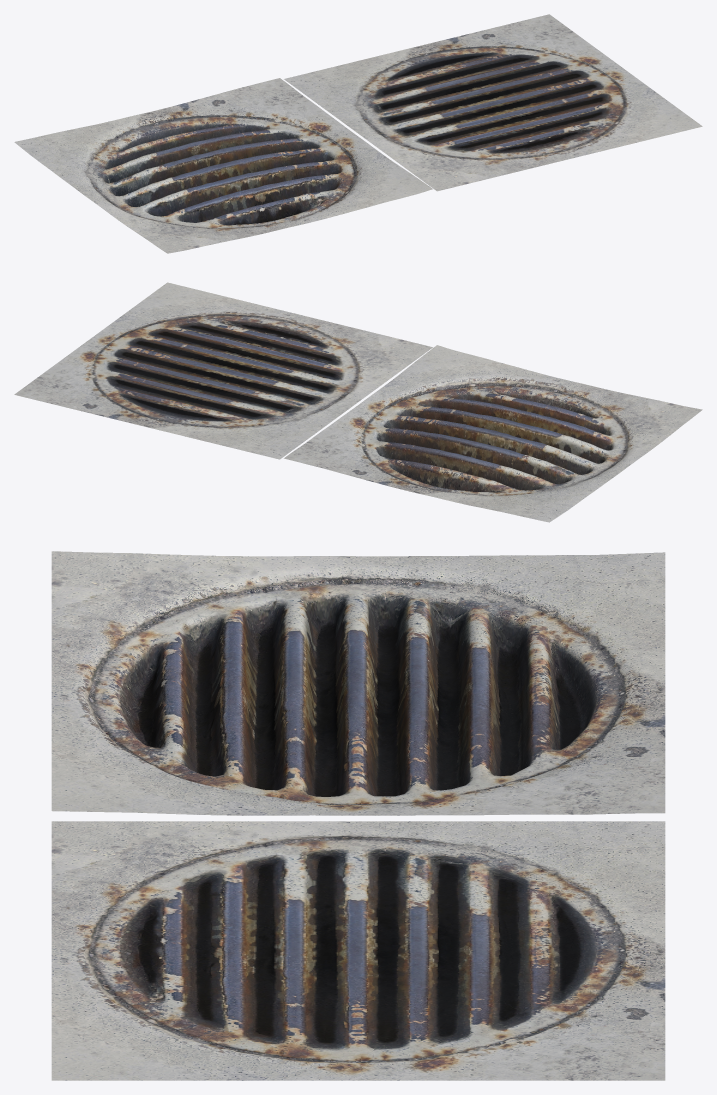
Rendered from Drain_cover.fbx.
The picture shows the model from 3 angles, top to bottom: view 1: azimuth 30°, elevation 25°; view 2: azimuth 150°, elevation 25°; view 3: azimuth 270°, elevation 25°; orthographic projection. The views are drawn at different scales.
Parts seen in each view (by area): view 1: drain_cover_decal, drain_cover_3D; view 2: drain_cover_3D, drain_cover_decal; view 3: drain_cover_3D, drain_cover_decal.
Boxes of the visible parts, box(x1,y1,x2,y2) form: drain_cover_decal: box(284, 14, 702, 191); drain_cover_3D: box(14, 78, 432, 253); drain_cover_3D: box(284, 345, 702, 522); drain_cover_decal: box(14, 282, 432, 459); drain_cover_3D: box(51, 551, 665, 815); drain_cover_decal: box(51, 821, 665, 1080).
Size of the model in its own units: 60.43 by 2.67 by 30.
